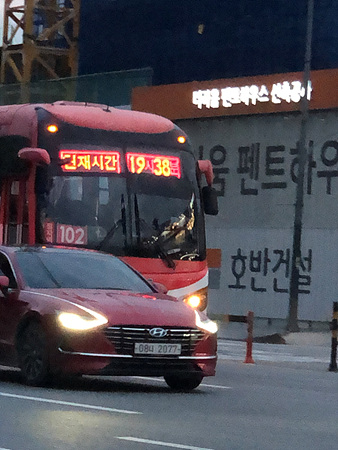bnum: (58, 223, 86, 248)
